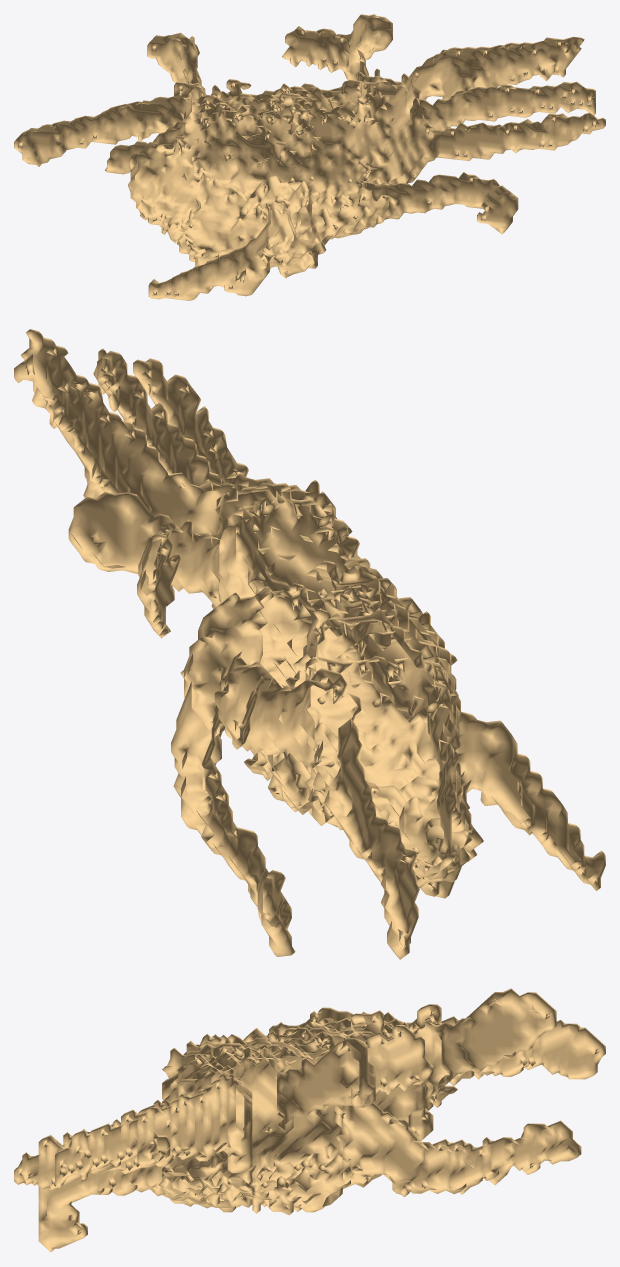
File: osteocyte_157.glb
The picture shows the model from 3 angles, top to bottom: view 1: azimuth 30°, elevation 25°; view 2: azimuth 150°, elevation 25°; view 3: azimuth 270°, elevation 25°; orthographic projection. The views are drawn at different scales.
Visible parts, largest first — view 1: osteocyte_157; view 2: osteocyte_157; view 3: osteocyte_157.
Part boxes in pixels (left/top/right/bottom): osteocyte_157: left=14, top=14, right=605, bottom=300; osteocyte_157: left=14, top=329, right=605, bottom=959; osteocyte_157: left=14, top=988, right=605, bottom=1251.
Bounding box in the file's own units: 36.59 × 18.3 × 34.67.
